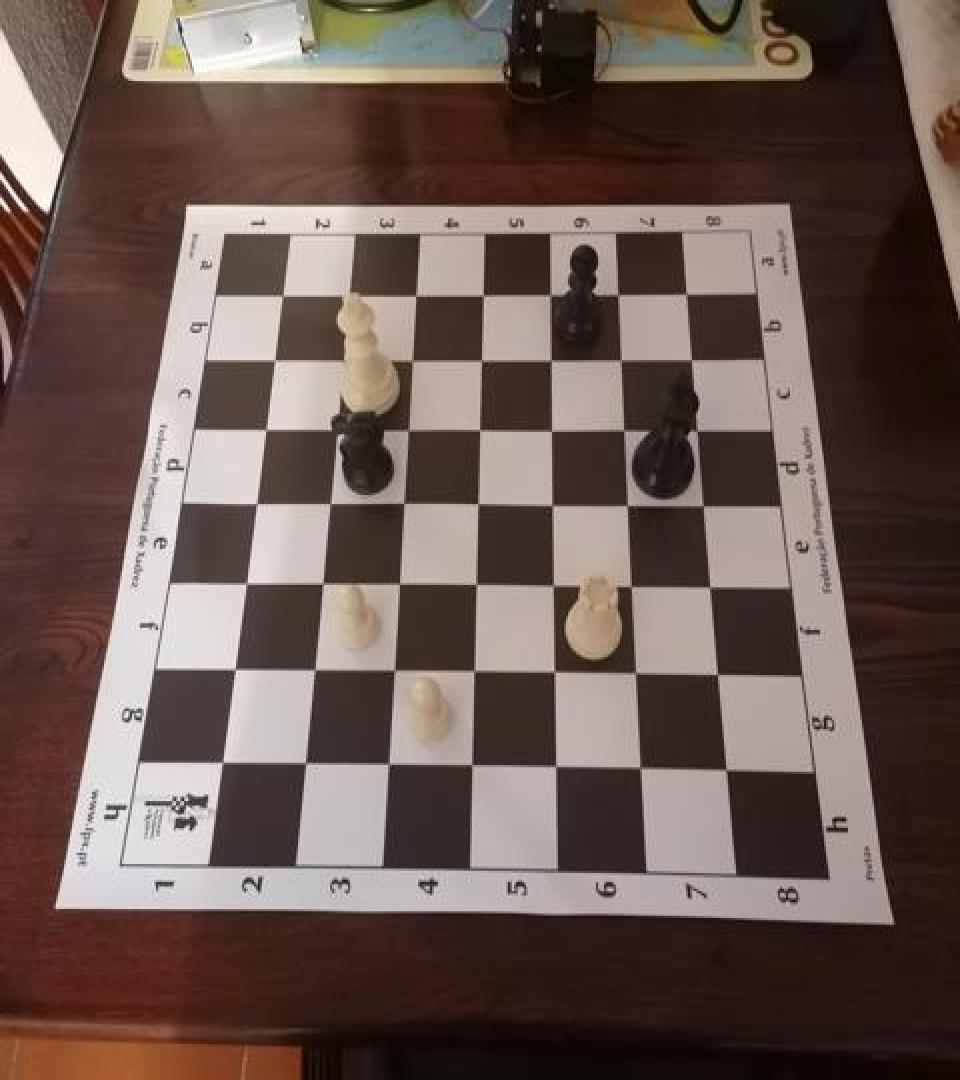xcorner: (673, 278, 703, 312), (604, 276, 634, 310), (536, 276, 566, 310), (468, 276, 498, 310), (400, 276, 430, 310), (333, 276, 363, 310), (266, 276, 296, 310), (678, 343, 708, 377), (607, 343, 637, 377), (537, 343, 567, 377), (467, 342, 497, 376), (397, 342, 427, 376), (327, 342, 357, 376), (258, 341, 288, 375), (684, 414, 714, 448), (611, 413, 641, 447), (538, 413, 568, 447), (465, 412, 495, 446), (393, 412, 423, 446), (320, 412, 350, 446), (249, 410, 279, 444), (691, 489, 721, 523), (615, 488, 645, 522), (539, 488, 569, 522), (463, 487, 493, 521), (388, 487, 418, 521), (313, 486, 343, 520), (239, 485, 269, 519), (698, 570, 728, 604), (619, 570, 649, 604), (540, 569, 570, 603), (461, 568, 491, 602), (383, 567, 413, 601), (306, 566, 336, 600), (229, 566, 259, 600), (705, 659, 735, 693), (623, 658, 653, 692), (541, 657, 571, 691), (460, 656, 490, 690), (378, 654, 408, 688), (298, 654, 328, 688), (218, 651, 248, 685), (714, 755, 744, 789), (628, 752, 658, 786), (457, 750, 487, 784), (373, 748, 403, 782), (289, 747, 319, 781), (205, 746, 235, 780), (542, 752, 572, 785)
